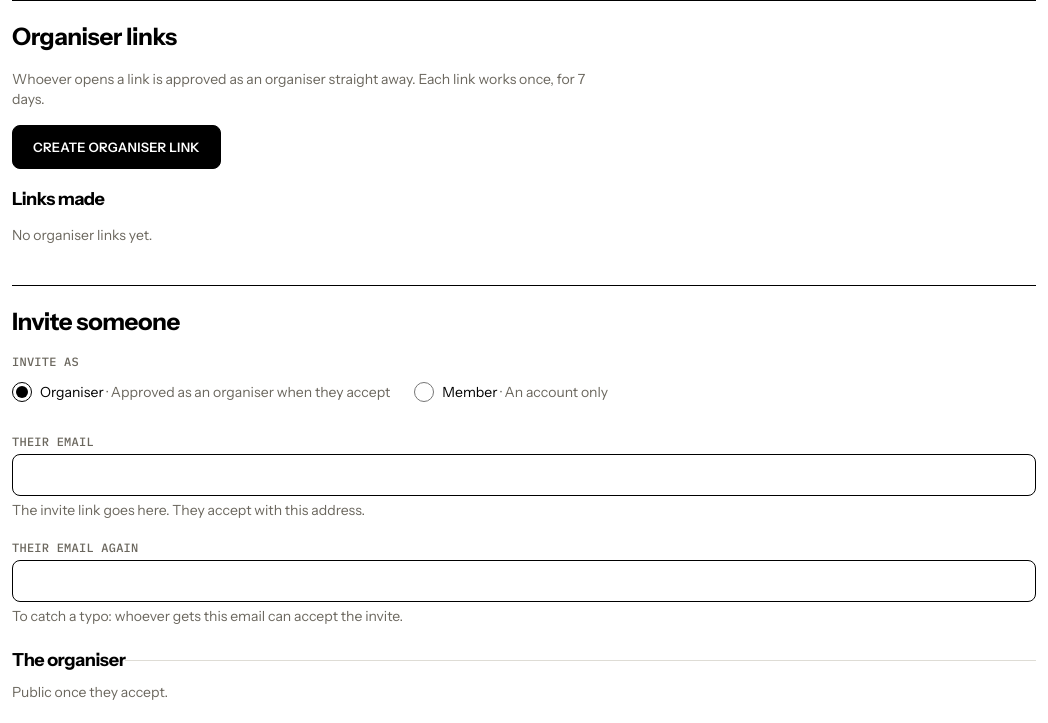
Scenario: Organiser links on /admin/invites › Create organiser link shows the link once with Copy and Share; Copy copies it and says so
Expected: the text "No organiser links yet." is shown, [12,226,152,244]
Click the button "Create organiser link" at coordinates (116, 147), box [12,125,221,169]
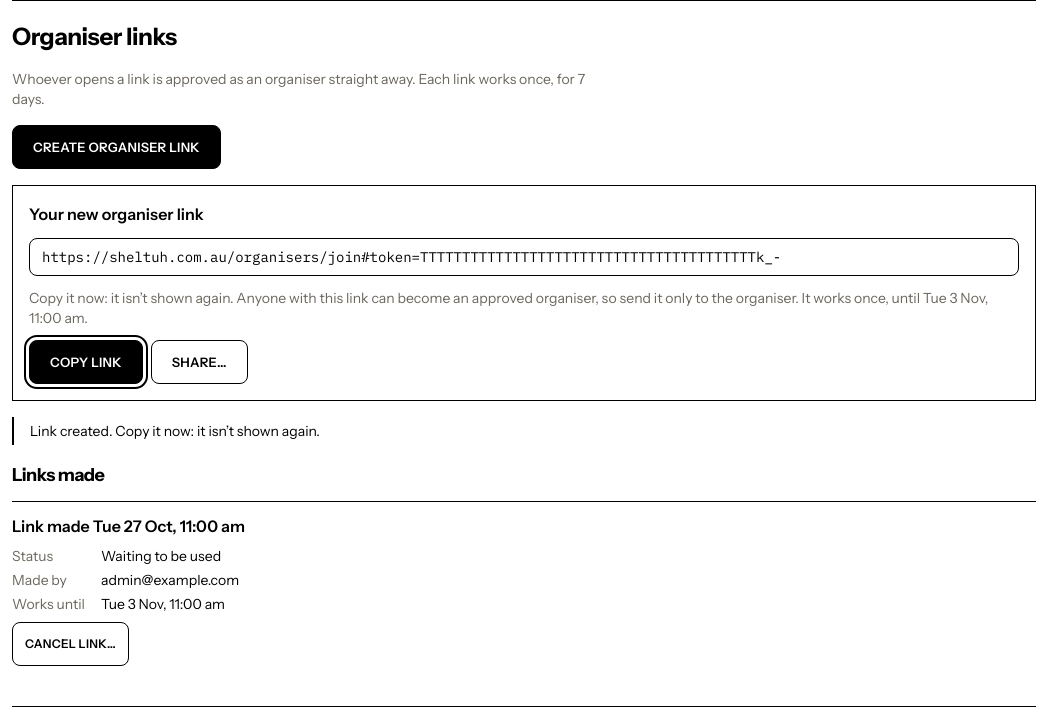
Click the button "Copy link" at coordinates (86, 362), box [29,340,143,384]
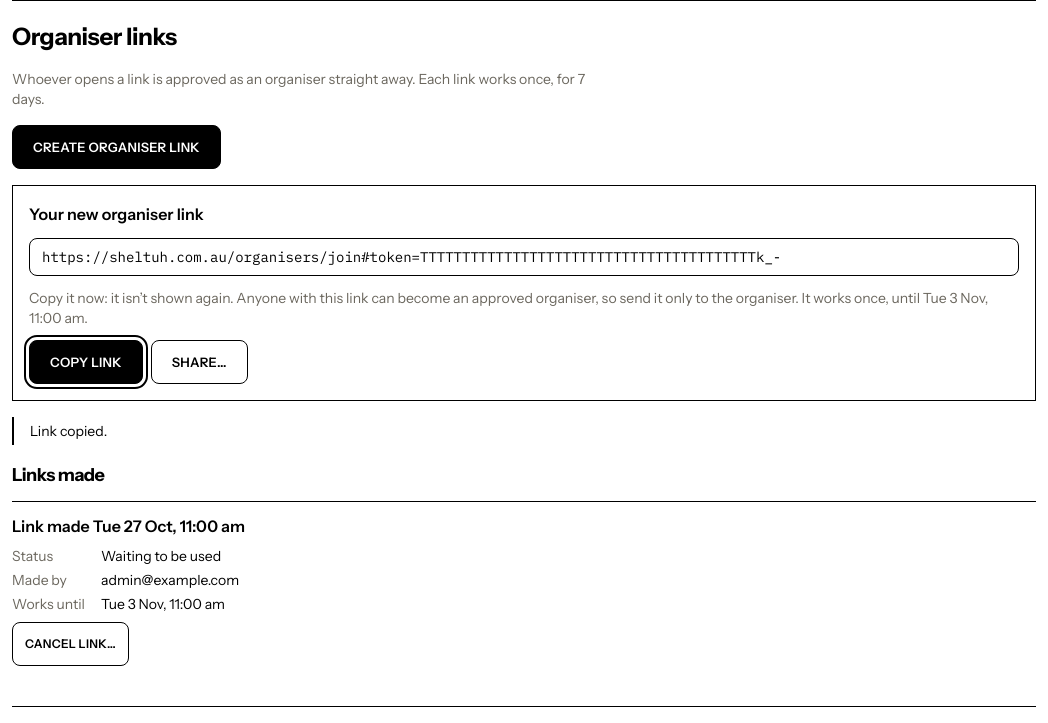
Expected: the text "Link copied." is shown, [12,417,1036,445]
Click the button "Share…" at coordinates (199, 362), box [151,340,248,384]
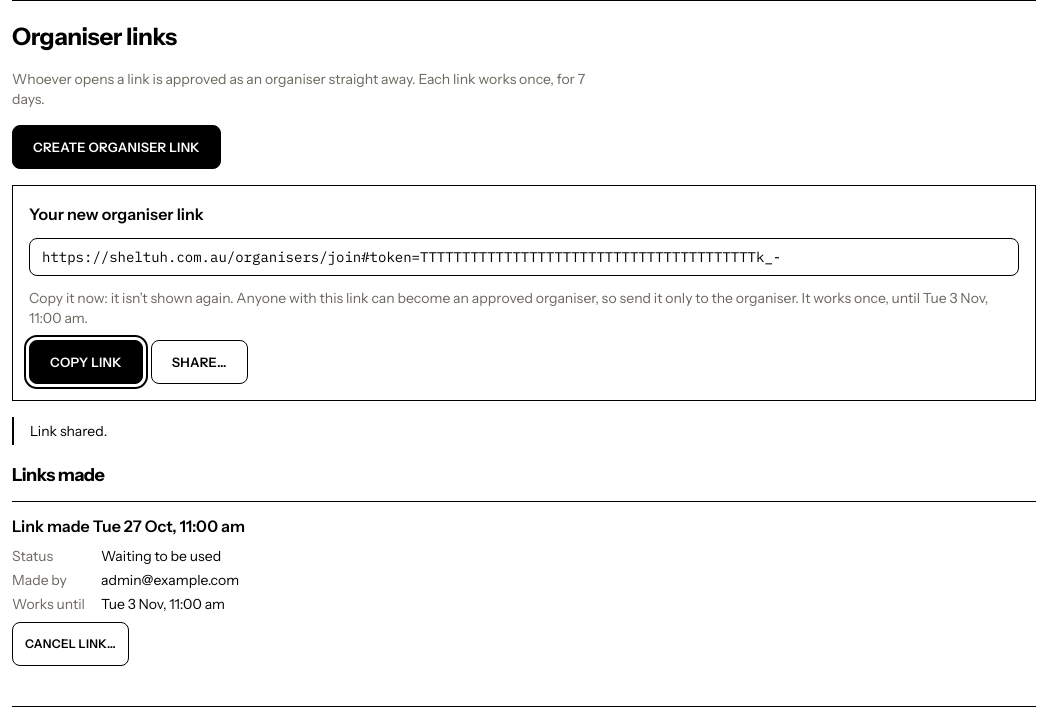
Expected: the text "Link shared." is shown, [12,417,1036,445]
